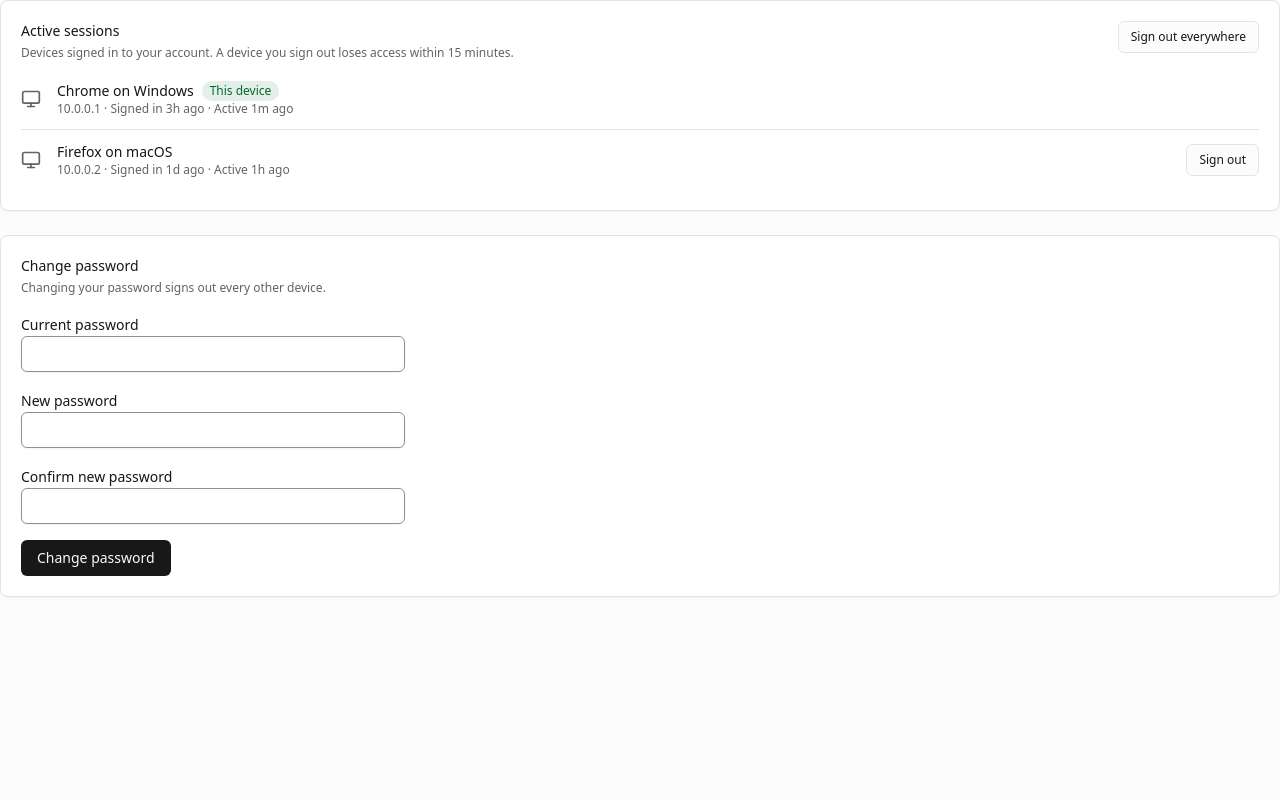
active sessions › signs out another device only after confirmation and explains the delay
Click the button with aria-label "Sign out Firefox on macOS" at x=1223, y=160, box top-left (1186, 144), bottom-right (1259, 176)
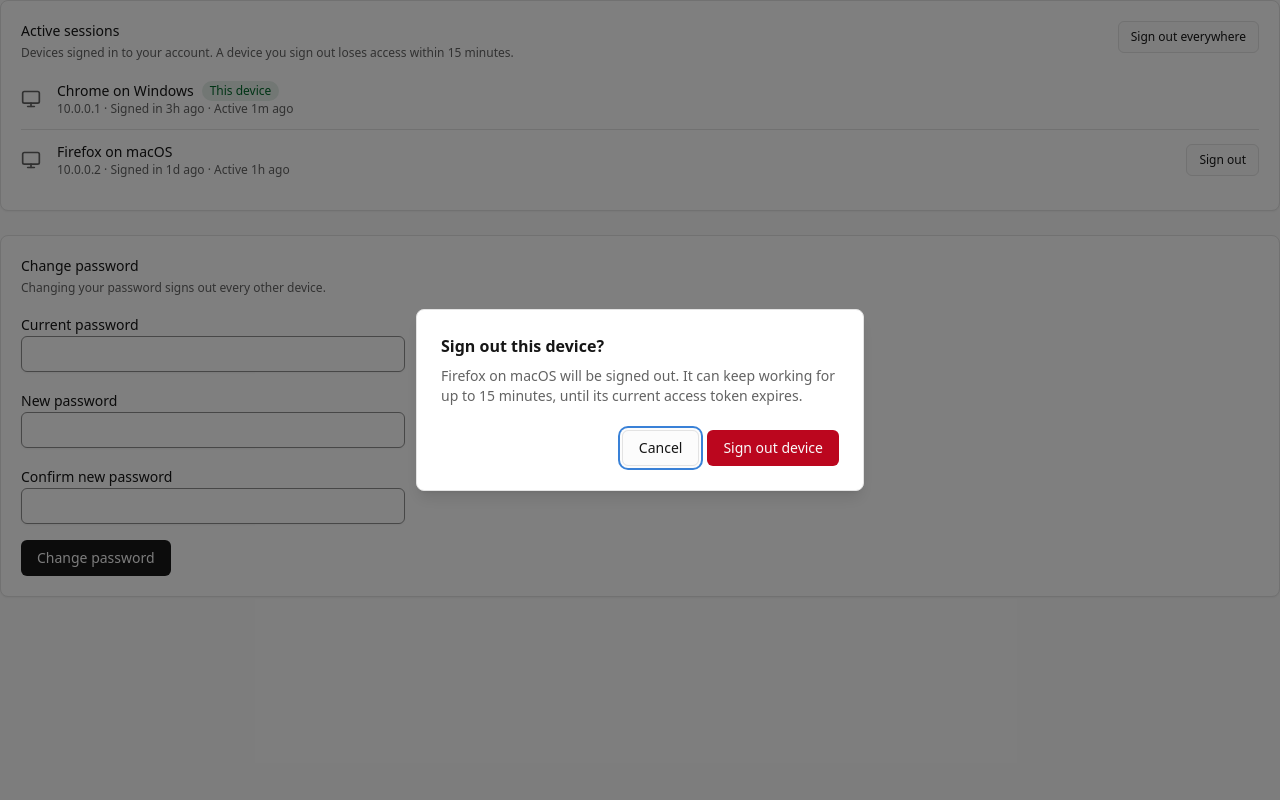
Check: the text "up to 15 minutes" is shown, box top-left (441, 366), bottom-right (835, 405)
Click the button "Cancel" at x=661, y=448, box top-left (622, 430), bottom-right (699, 466)
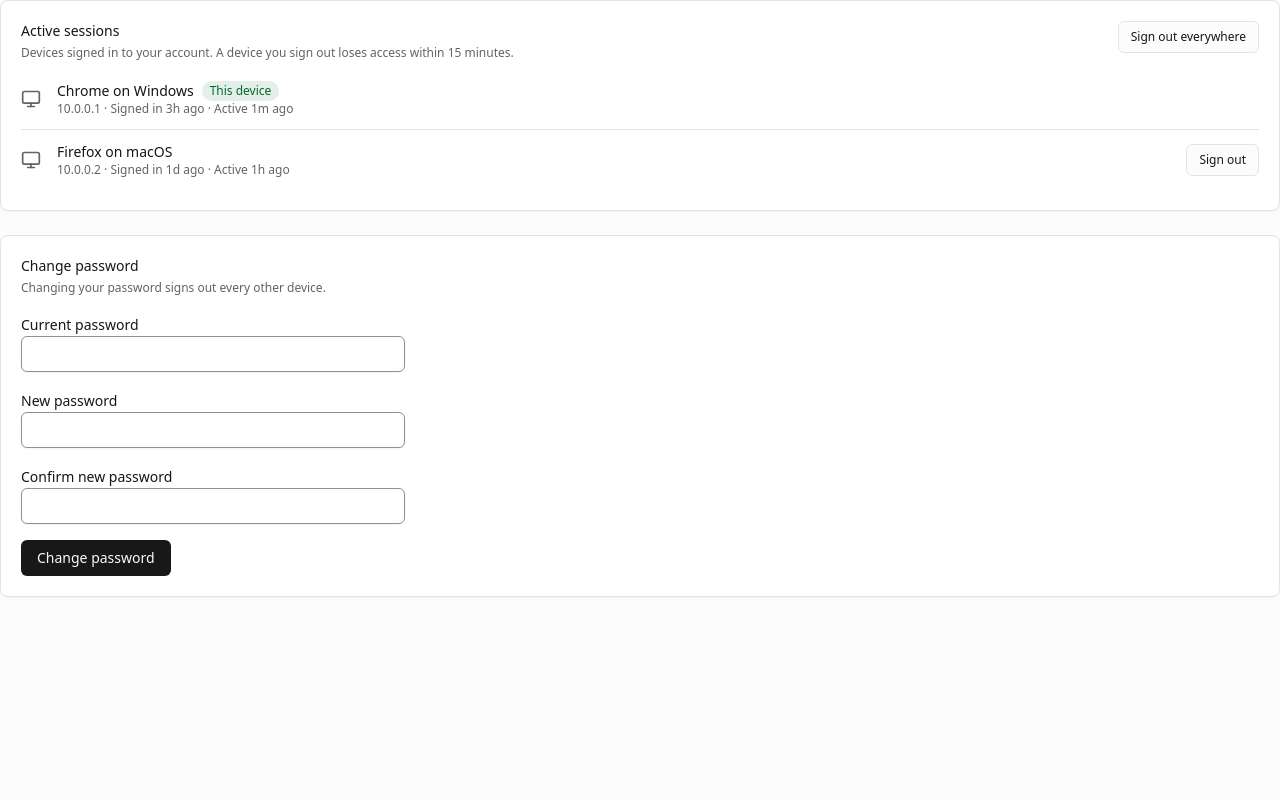
Check: the dialog is gone
Click the button with aria-label "Sign out Firefox on macOS" at x=1223, y=160, box top-left (1186, 144), bottom-right (1259, 176)
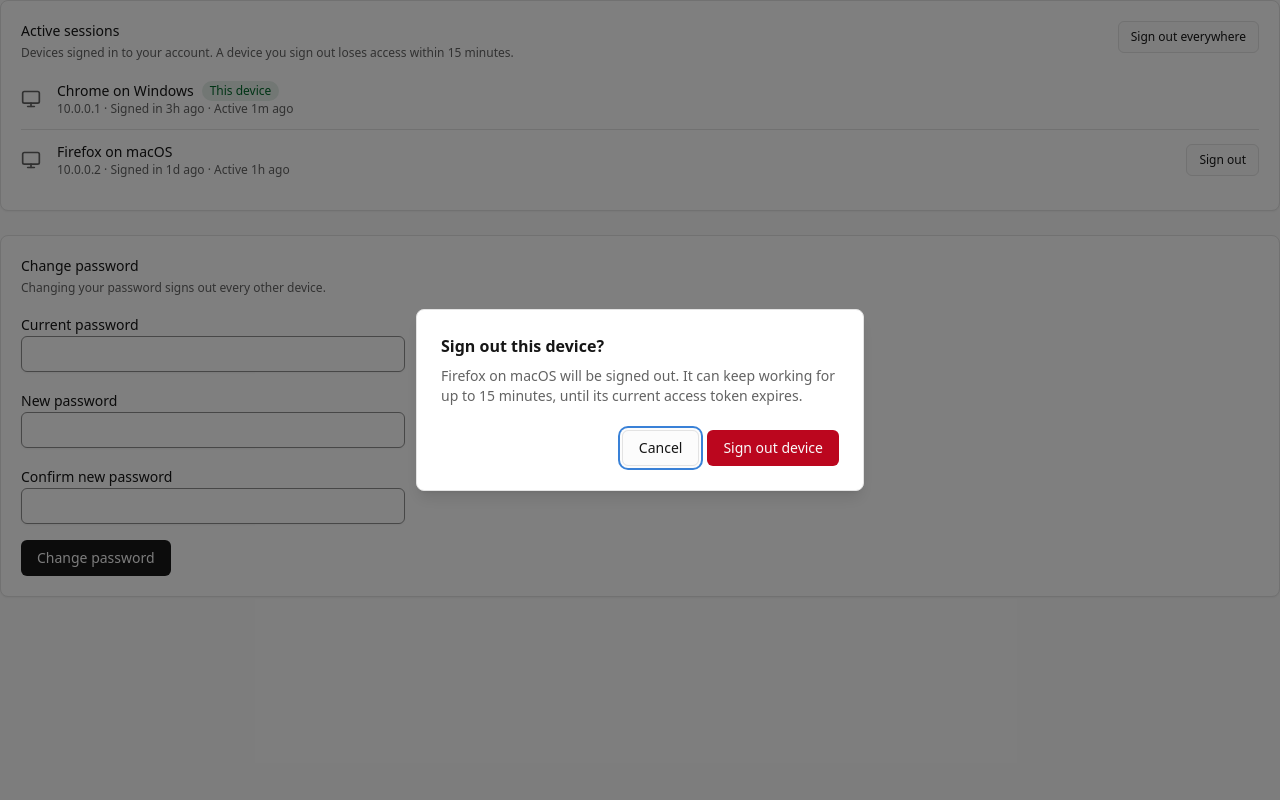
Click the button "Sign out device" at x=773, y=448, box top-left (707, 430), bottom-right (839, 466)
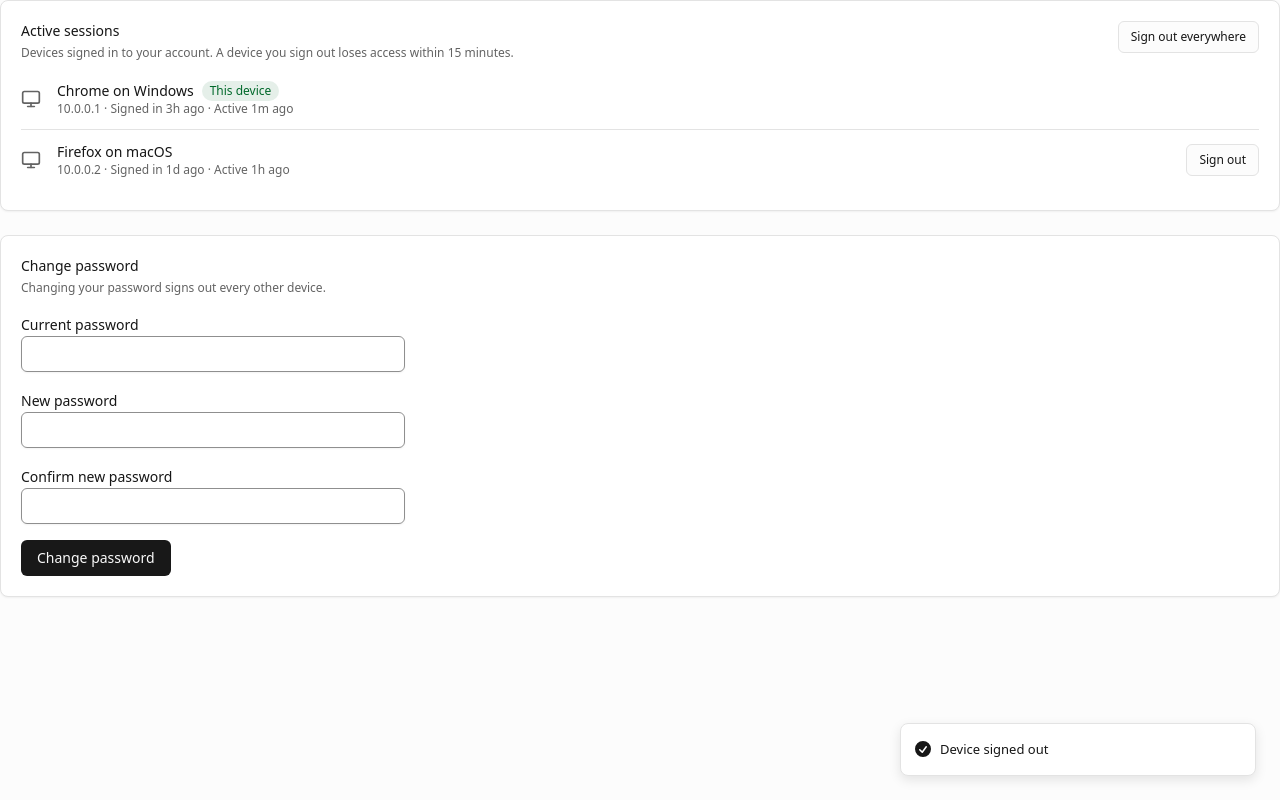
Check: the text "Device signed out" is shown, box top-left (940, 740), bottom-right (1048, 759)
